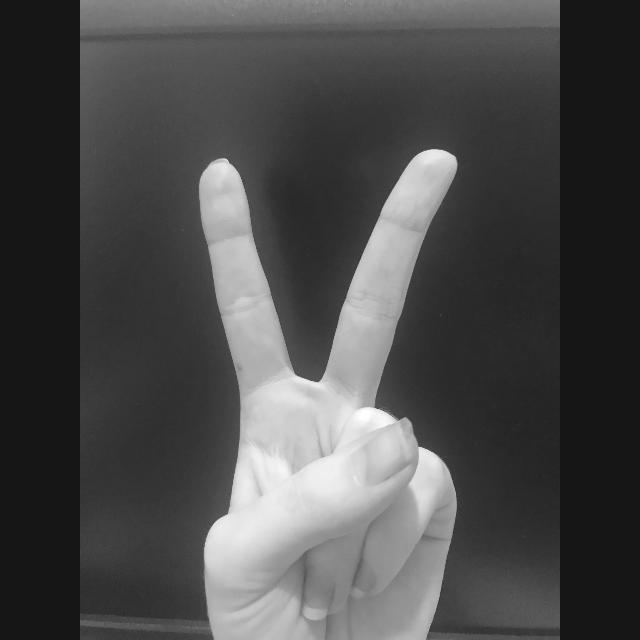V: (196, 145, 462, 640)
